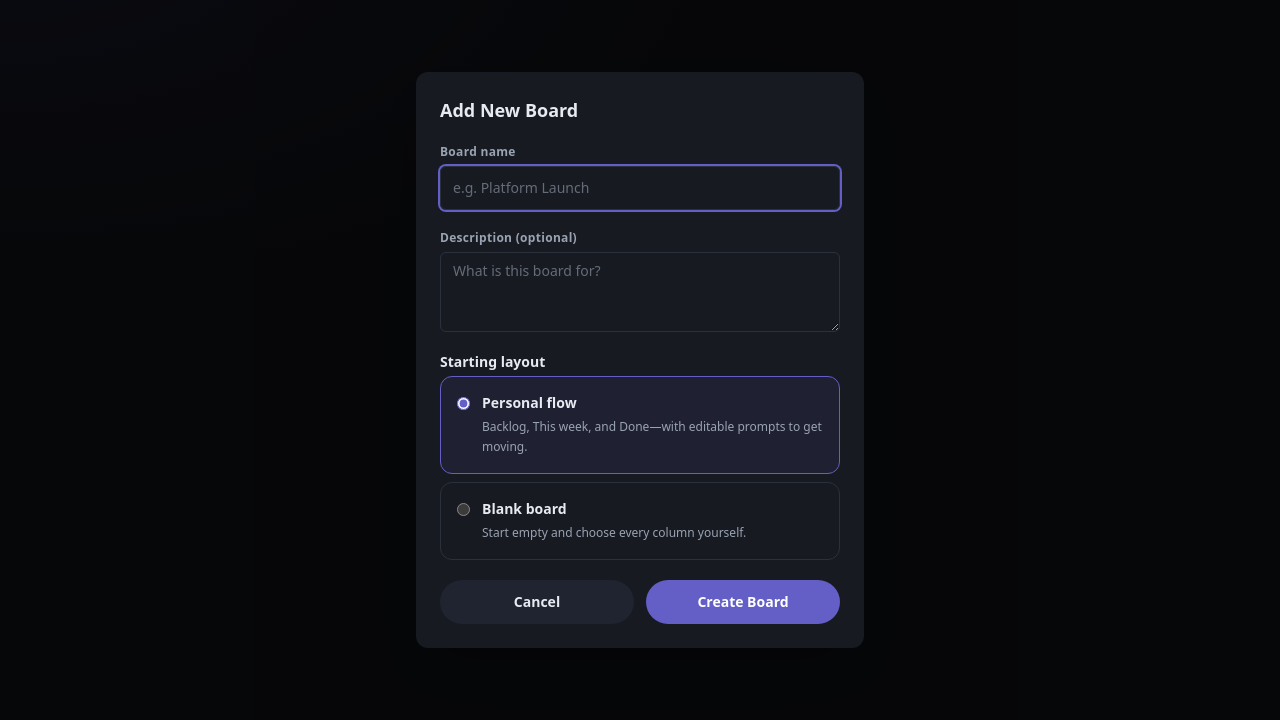
Test: BoardFormModal › validates that a name is provided before submitting
Click the button "Create Board" at (743,602), box [646,580,840,624]
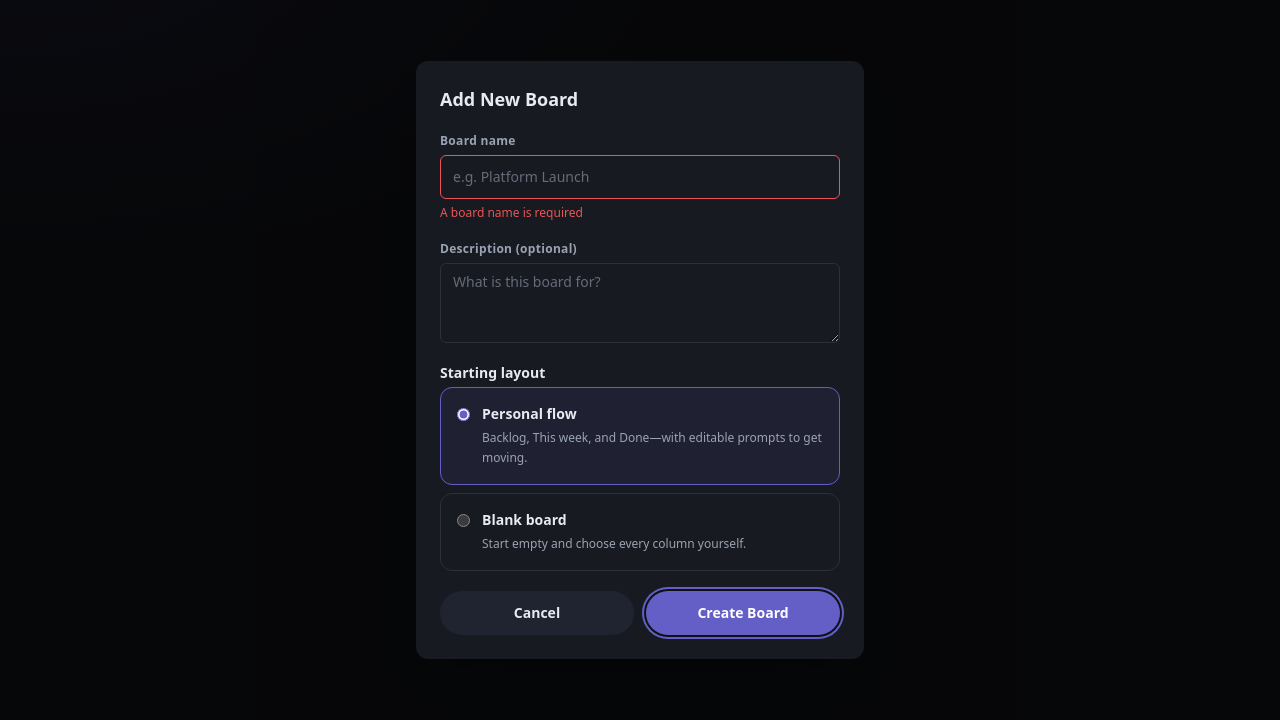
Expected: the text "A board name is required" is shown, [440,204,583,221]
